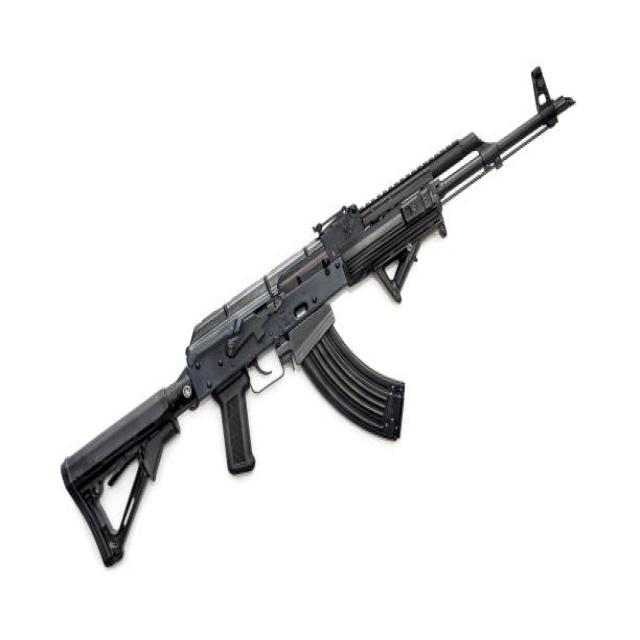rifle: (57, 47, 576, 591)
